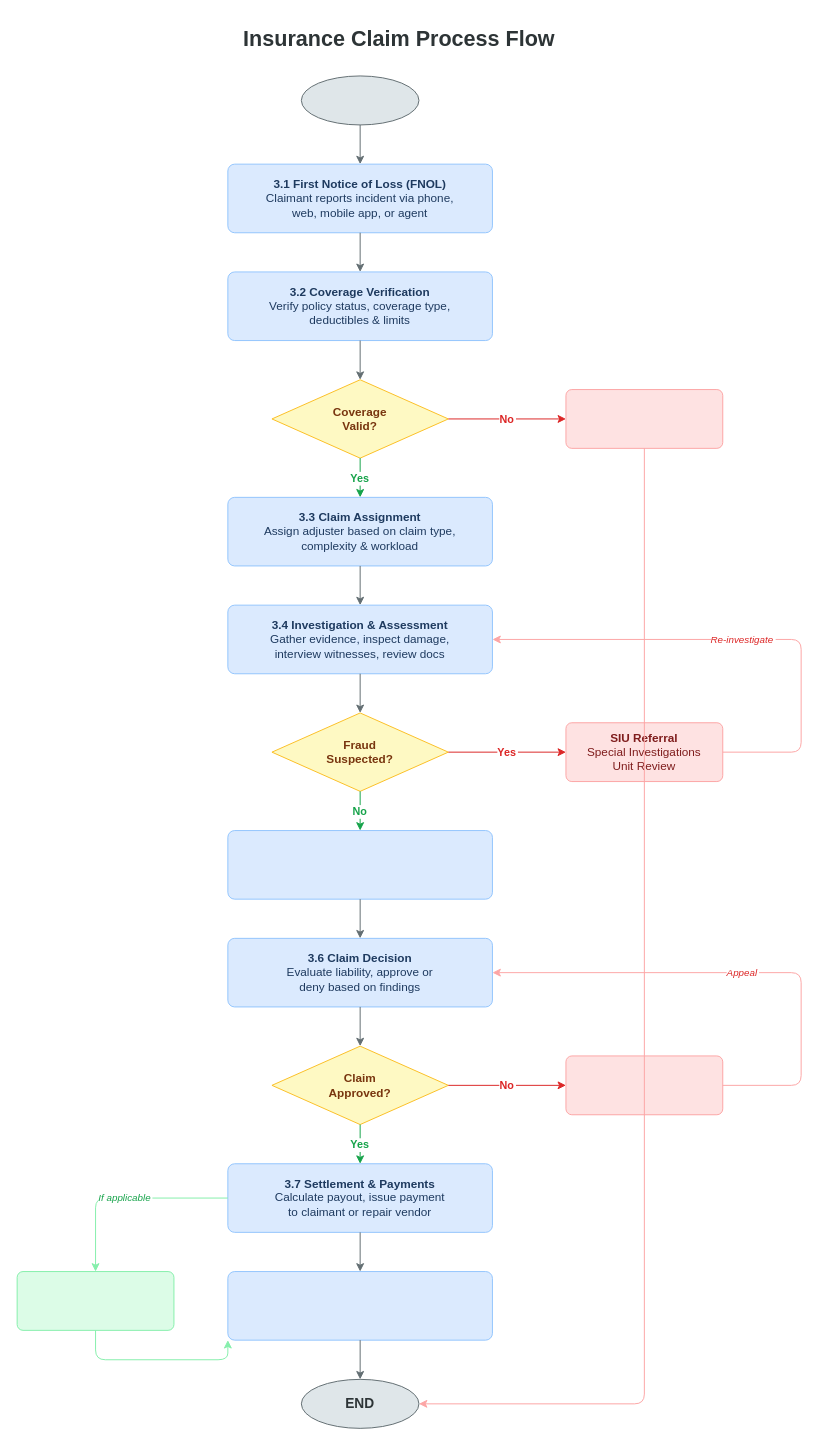
This 826x1446 diagram has some shape labels left out. The shapes that lost their labels are listed below. From the top down, each one's box as (x1, y1, x2, y2) in pixels, then its label:
(300, 75, 419, 125): START
(565, 389, 723, 448): Deny Claim Notify claimant with reason
(227, 830, 492, 899): 3.5 Reserve Management Set initial reserves, adjust as new information emerges
(565, 1055, 723, 1115): Dispute / Appeal Claimant notified, appeal process offered
(16, 1271, 174, 1330): Subrogation Review Identify recovery opportunities
(227, 1271, 492, 1340): 3.8 Claim Closure Document findings, close file, update records & analytics
